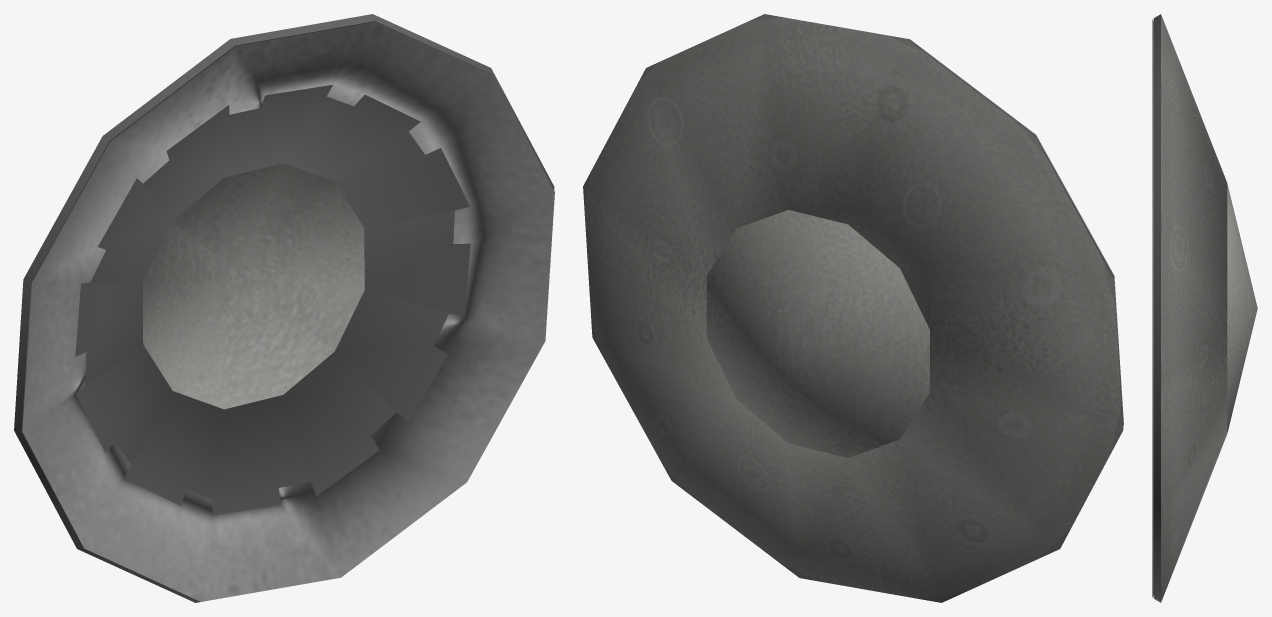
File: nt_2020_kitchen_light_01_off_LOD3.obj
The picture shows the model from 3 angles, left to right: view 1: azimuth 30°, elevation 25°; view 2: azimuth 150°, elevation 25°; view 3: azimuth 270°, elevation 25°; orthographic projection. The views are drawn at different scales.
Parts seen in each view (by area): view 1: glass_frosted, nt_2020_metal_chrome, mtl_nt_2020_kitchen_light_glass_off; view 2: mtl_nt_2020_kitchen_light_glass_off, glass_frosted; view 3: mtl_nt_2020_kitchen_light_glass_off, nt_2020_metal_chrome, glass_frosted.
Part boxes in pixels (x1,y1,x2,y2): glass_frosted: [22, 21, 554, 601]; nt_2020_metal_chrome: [14, 14, 554, 602]; mtl_nt_2020_kitchen_light_glass_off: [143, 163, 364, 409]; mtl_nt_2020_kitchen_light_glass_off: [583, 14, 1123, 602]; glass_frosted: [832, 25, 1123, 425]; mtl_nt_2020_kitchen_light_glass_off: [1161, 14, 1257, 602]; nt_2020_metal_chrome: [1153, 14, 1160, 602]; glass_frosted: [1152, 19, 1153, 597].
Size of the model in its own units: 401 by 401 by 71.16.
